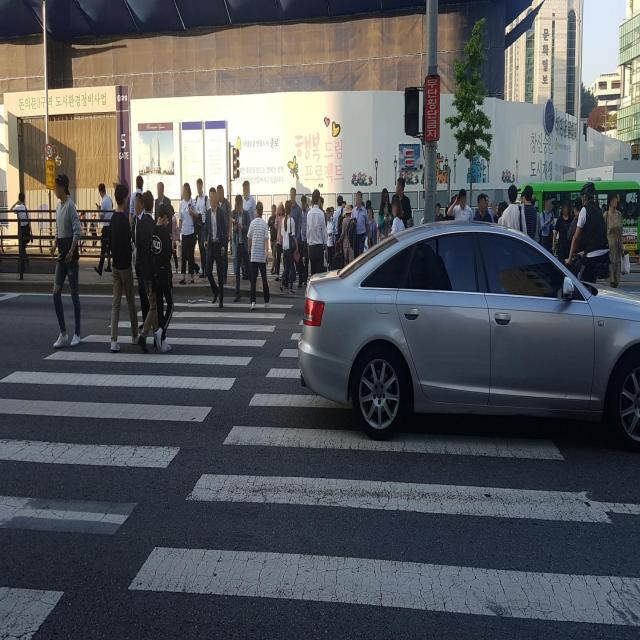횡단보도: (0, 297, 640, 639)
